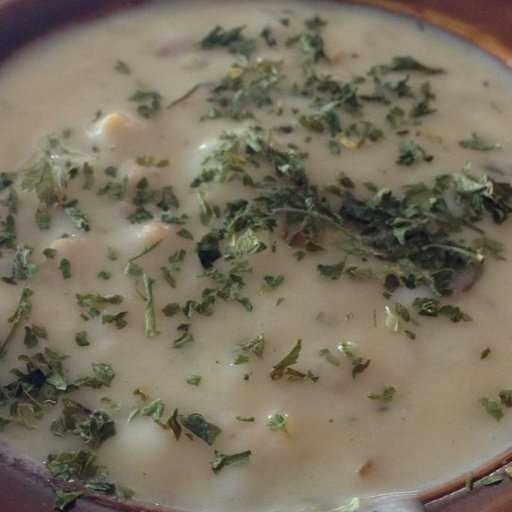soup: (2, 24, 491, 491)
